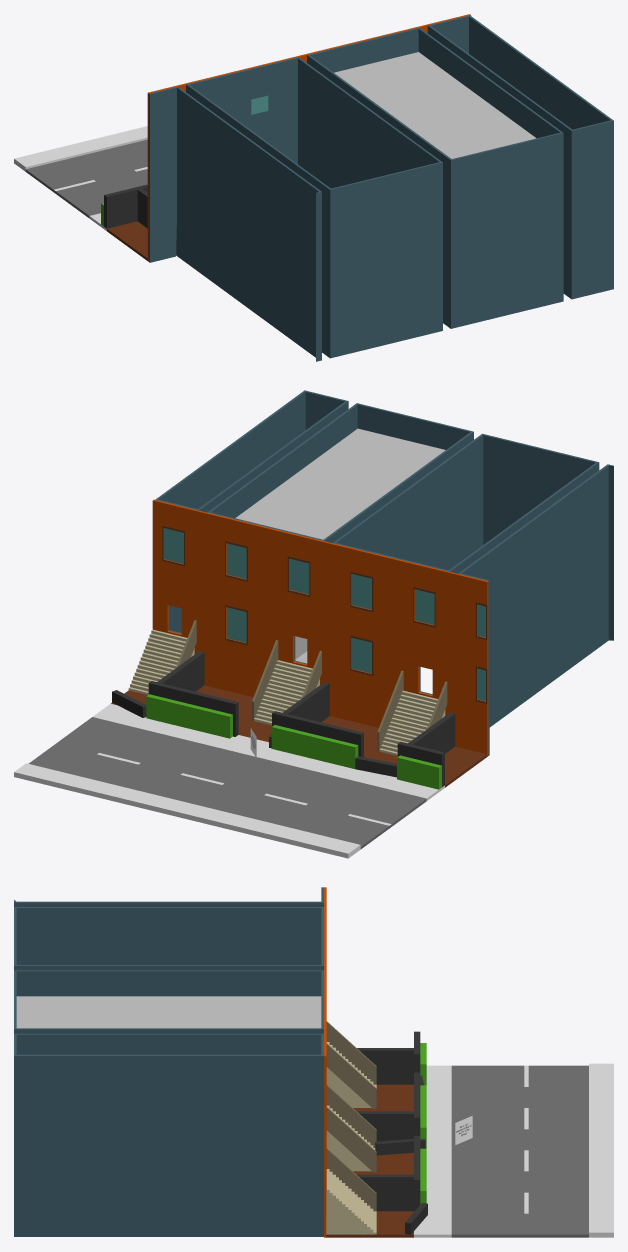
File: apartment.glb
3 renders of one model, top to bottom at view 1: azimuth 30°, elevation 25°; view 2: azimuth 150°, elevation 25°; view 3: azimuth 270°, elevation 25°, orthographic. The views are drawn at different scales.
Visible parts, largest first — view 1: ApartmentOuterSideWalls.001, ApartmentOuterSideWalls.002, ApartmentOuterSideWalls, ApartmentOuterSideWalls.003, ApartmentStairCeiling.001, StreetFloor, Cube.006; view 2: StreetFloor, ApartmentOuterSideWalls.002, ApartmentOuterWalls, ApartmentOuterWalls.001, ApartmentOuterSideWalls.001, ApartmentStairCeiling.001, ApartmentOuterSideWalls, ApartmentOuterSideWalls.003, ApartmentOuterWalls.002, ApartmentOuterWalls.003, Cube.003, Cube.014 (+12 smaller); view 3: ApartmentOuterSideWalls.003, StreetFloor, ApartmentOuterSideWalls.001, ApartmentOuterSideWalls, ApartmentStairCeiling.001, Stairs.001, ApartmentOuterSideWalls.002, Cube.009, Cube.011, Cube.010, Plane.004, Plane.006 (+8 smaller).
Boxes of the visible parts, <box> form: ApartmentOuterSideWalls.001: <box>186,57,442,358</box>; ApartmentOuterSideWalls.002: <box>148,86,321,361</box>; ApartmentOuterSideWalls: <box>307,27,563,328</box>; ApartmentOuterSideWalls.003: <box>427,15,613,299</box>; ApartmentStairCeiling.001: <box>334,52,536,158</box>; StreetFloor: <box>14,126,147,260</box>; Cube.006: <box>104,184,147,228</box>; StreetFloor: <box>14,685,487,858</box>; ApartmentOuterSideWalls.002: <box>458,464,613,755</box>; ApartmentOuterWalls: <box>202,511,327,697</box>; ApartmentOuterWalls.001: <box>327,542,453,727</box>; ApartmentOuterSideWalls.001: <box>333,433,599,694</box>; ApartmentStairCeiling.001: <box>235,428,445,539</box>; ApartmentOuterSideWalls: <box>207,403,473,664</box>; ApartmentOuterSideWalls.003: <box>155,390,348,633</box>; ApartmentOuterWalls.002: <box>452,573,488,756</box>; ApartmentOuterWalls.003: <box>152,499,202,654</box>; Cube.003: <box>146,694,232,738</box>; Cube.014: <box>271,725,358,768</box>; ApartmentOuterSideWalls.003: <box>14,1033,323,1236</box>; StreetFloor: <box>326,1063,613,1237</box>; ApartmentOuterSideWalls.001: <box>14,907,323,970</box>; ApartmentOuterSideWalls: <box>14,970,323,1033</box>; ApartmentStairCeiling.001: <box>16,996,321,1028</box>; Stairs.001: <box>326,1169,376,1234</box>; ApartmentOuterSideWalls.002: <box>14,887,323,906</box>; Cube.009: <box>357,1174,413,1211</box>; Cube.011: <box>357,1048,413,1084</box>; Cube.010: <box>357,1111,413,1141</box>; Plane.004: <box>326,1107,376,1172</box>; Plane.006: <box>326,1043,376,1108</box>.
Size of what is drawn, in the model's own units: 32 by 16 by 48.
13 materials, 1 textured.
